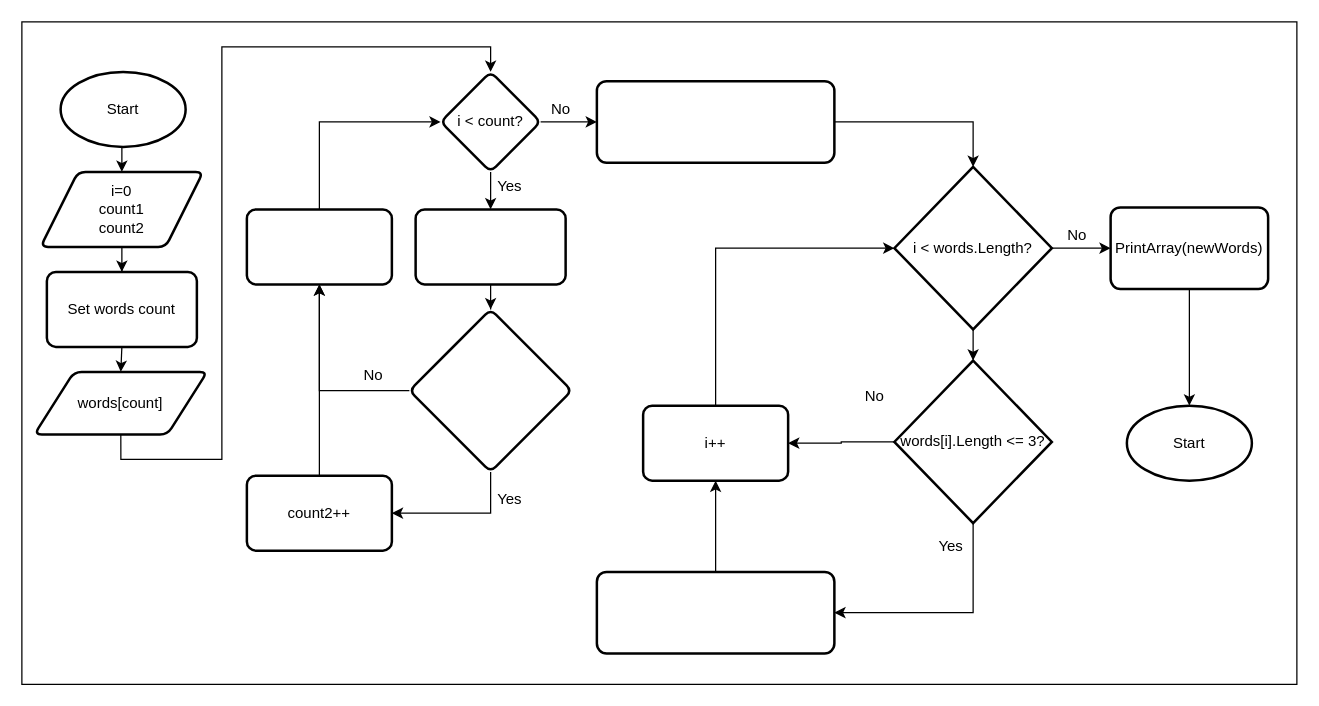
The diagram is 1319 pixels wide and 706 high, and some of its shapes have lost their labels. The box of each missing label's shape, as (x1, y1, x2, y2) in pixels:
newWords[j] = words[i], j++: (595, 570, 835, 654)
PrintArray(words) create newWords[count2] i=0: (595, 79, 835, 163)
Put word in words[i], i++: (245, 208, 392, 285)
Set word: (414, 208, 566, 285)
word.Length <= 3?: (408, 308, 572, 472)
